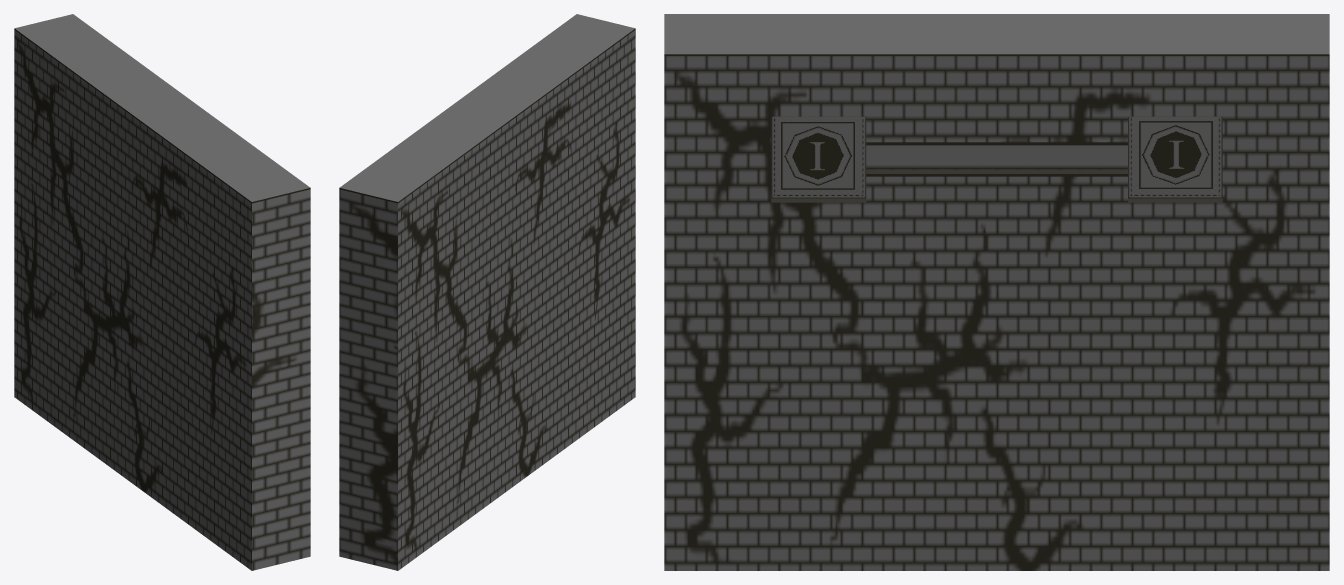
File: Ruins_1.fbx
3 views of the same model, side by side, from view 1: azimuth 30°, elevation 25°; view 2: azimuth 150°, elevation 25°; view 3: azimuth 270°, elevation 25° (orthographic). The views are drawn at different scales.
Visible parts, largest first — view 1: Ruins_1; view 2: Ruins_1; view 3: Ruins_1.
Part boxes in pixels (bbox=[...]): Ruins_1: bbox=[14, 14, 310, 570]; Ruins_1: bbox=[339, 14, 635, 570]; Ruins_1: bbox=[664, 14, 1329, 570].
Bounding box in the file's own units: 200 × 1200 × 1400.
Materials: 1 (1 with a texture image).
